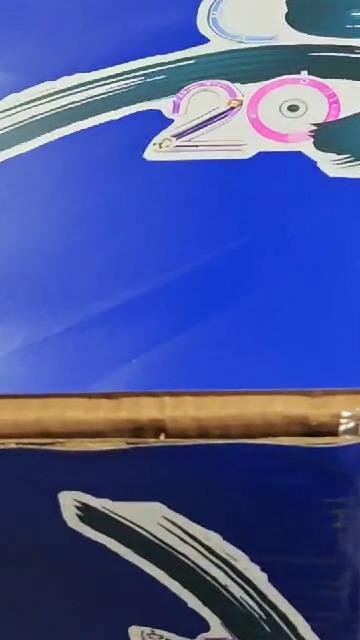B_R1: (3, 0, 360, 171)
